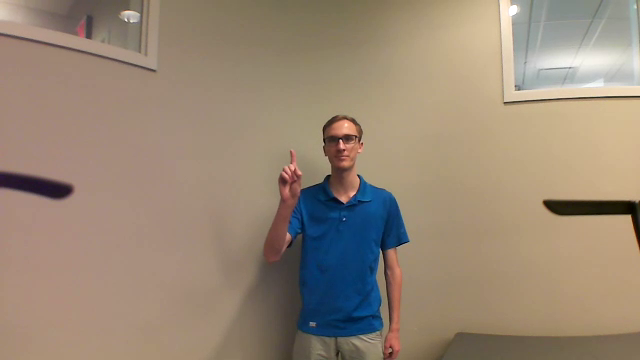up: (273, 146, 305, 204)
